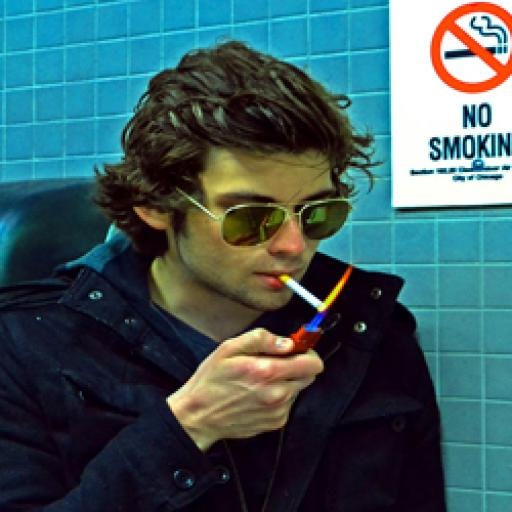membakar rokok: (241, 166, 369, 362)
